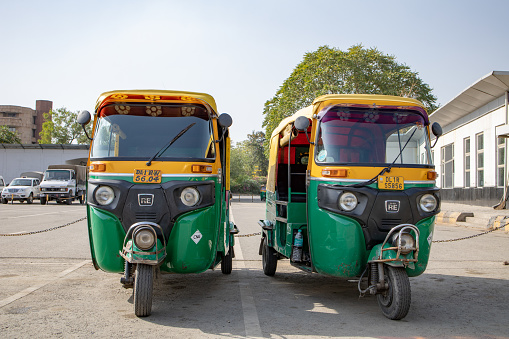auto: (257, 90, 475, 326), (72, 84, 249, 325)
numberplate: (130, 167, 166, 186), (377, 176, 408, 191)
